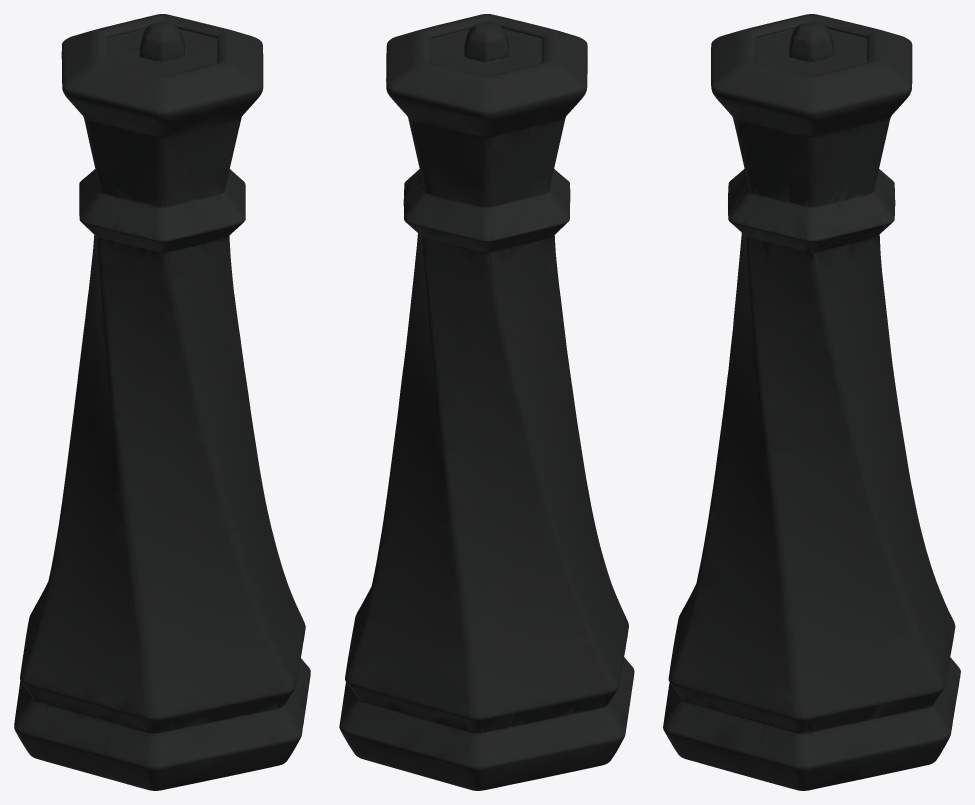
Rendered from queen-black-hd.glb.
3 renders of one model, left to right at view 1: azimuth 30°, elevation 25°; view 2: azimuth 150°, elevation 25°; view 3: azimuth 270°, elevation 25°, orthographic.
Size of the model in its own units: 0.6061 by 1.45 by 0.5535.
1 material, 1 textured.
